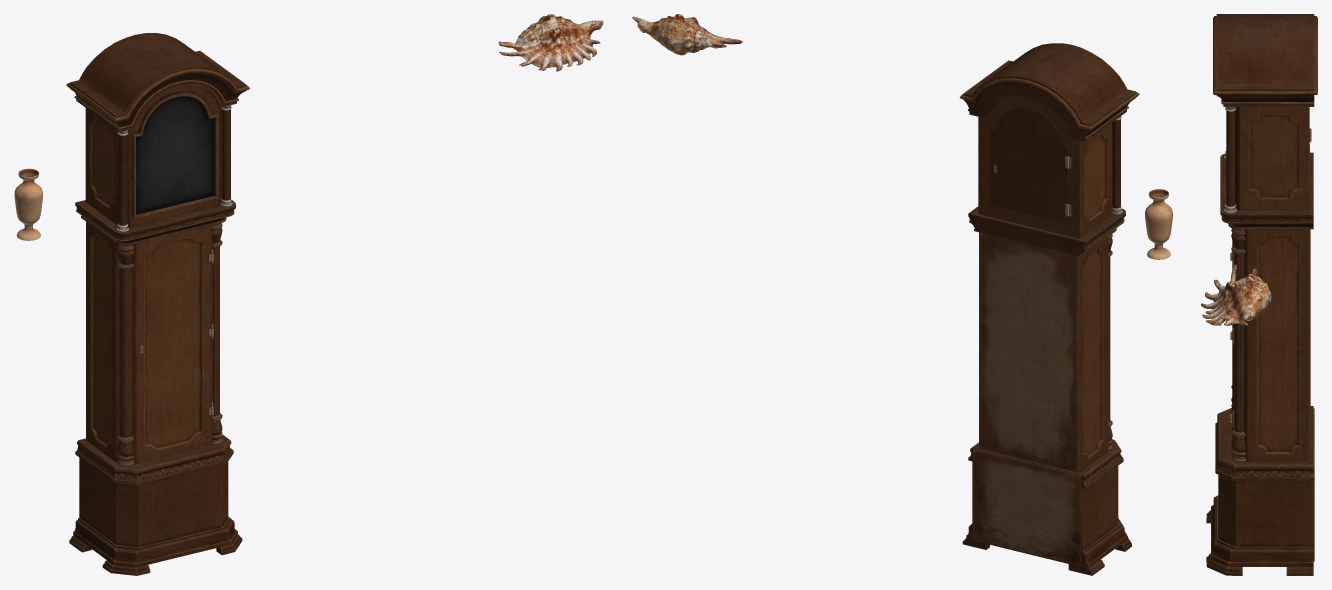
Rendered from study-props.glb.
The picture shows the model from 3 angles, left to right: view 1: azimuth 30°, elevation 25°; view 2: azimuth 150°, elevation 25°; view 3: azimuth 270°, elevation 25°; orthographic projection. The views are drawn at different scales.
Parts seen in each view (by area): view 1: vintage_grandfather_clock_01, lambis_shell, brass_vase_03; view 2: vintage_grandfather_clock_01, lambis_shell, brass_vase_03; view 3: vintage_grandfather_clock_01, lambis_shell.
Part boxes in pixels (<box>): vintage_grandfather_clock_01: <box>66,33,249,575</box>; lambis_shell: <box>498,14,603,71</box>; brass_vase_03: <box>14,168,42,240</box>; vintage_grandfather_clock_01: <box>959,43,1139,575</box>; lambis_shell: <box>632,14,743,55</box>; brass_vase_03: <box>1145,189,1172,259</box>; vintage_grandfather_clock_01: <box>1206,14,1317,575</box>; lambis_shell: <box>1201,265,1271,325</box>.
Size of the model in its own units: 9.91 by 8.2 by 1.67.
4 materials, 4 textured.
